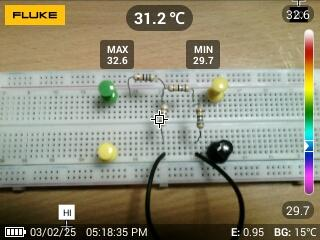resistor: (193, 104, 208, 132), (131, 70, 158, 83), (157, 102, 170, 129), (166, 83, 192, 93)
